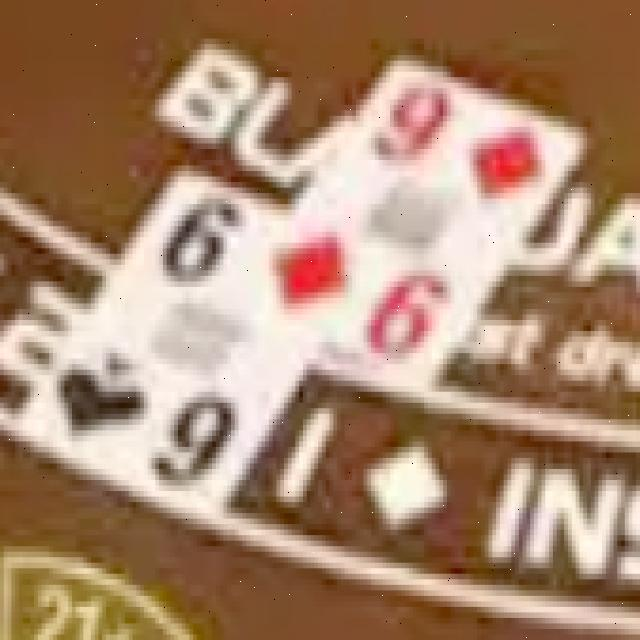Card-6: (15, 169, 310, 519)
Card-9: (227, 52, 587, 391)
